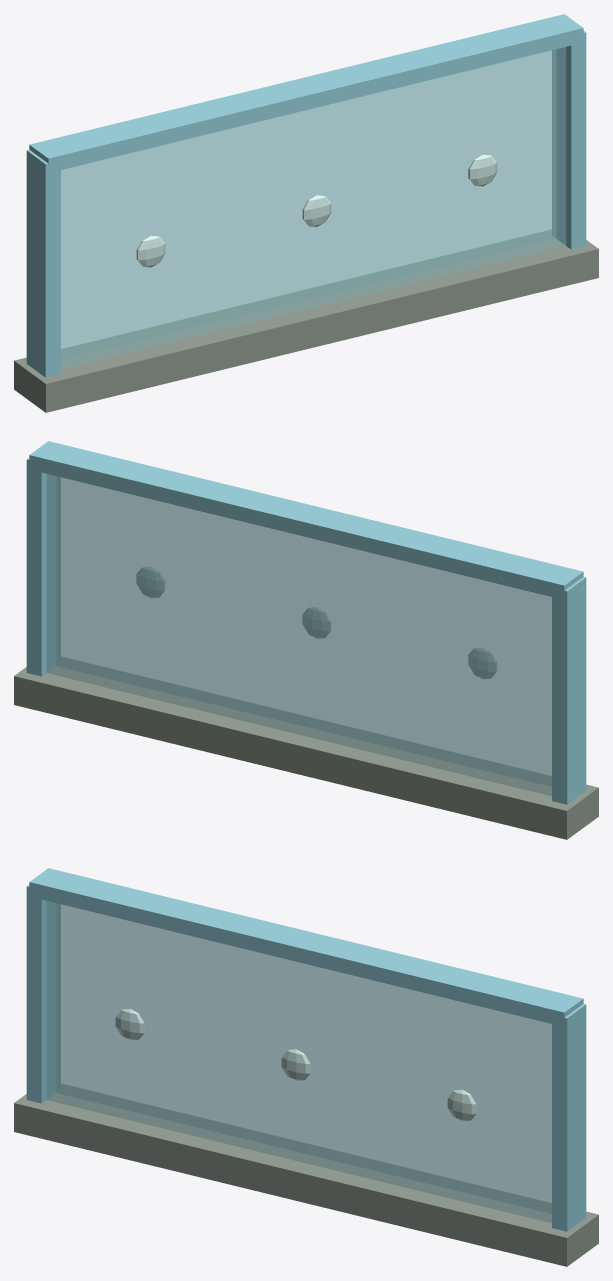
File: escudo_guardian.glb
The picture shows the model from 3 angles, top to bottom: view 1: azimuth 30°, elevation 25°; view 2: azimuth 150°, elevation 25°; view 3: azimuth 330°, elevation 25°; orthographic projection.
Visible parts, largest first — view 1: escudo_guardian; view 2: escudo_guardian; view 3: escudo_guardian.
Part boxes in pixels (x1,y1,x2,y2): escudo_guardian: [14, 14, 598, 412]; escudo_guardian: [14, 441, 598, 839]; escudo_guardian: [14, 868, 598, 1266].
Size of the model in its own units: 4 by 1.71 by 0.4.
